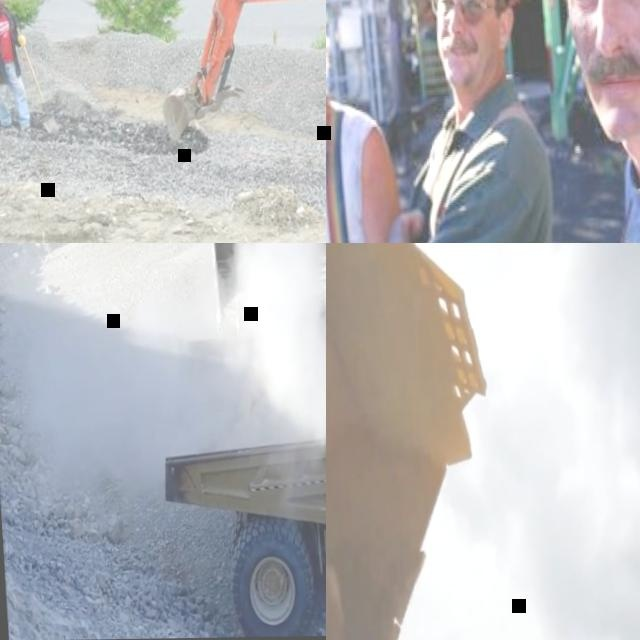NO-Mask: (576, 38, 640, 147), (433, 31, 499, 89), (0, 8, 5, 15)
NO-Safety Vest: (394, 108, 563, 243), (326, 106, 383, 243)
Person: (353, 0, 568, 243), (516, 0, 640, 243), (326, 0, 418, 243), (0, 0, 33, 133)
Safety Vest: (0, 14, 15, 64)
machinery: (326, 243, 505, 640), (143, 262, 326, 639), (149, 0, 326, 243), (201, 243, 326, 342)
